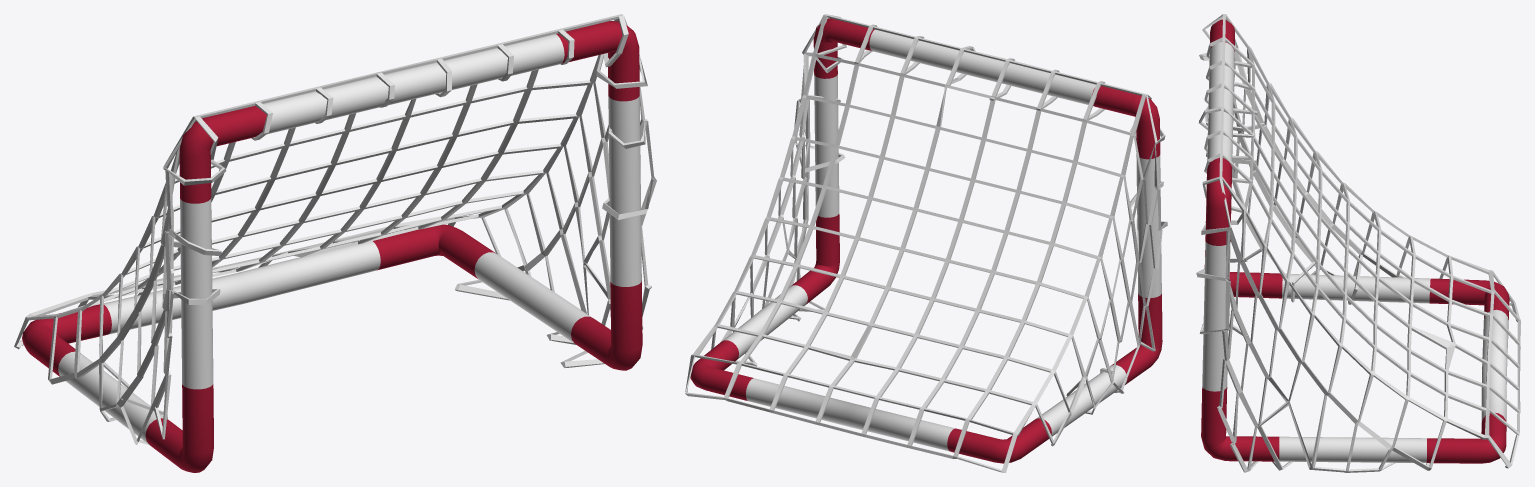
The model's file is goalgate.glb.
3 renders of one model, left to right at view 1: azimuth 30°, elevation 25°; view 2: azimuth 150°, elevation 25°; view 3: azimuth 270°, elevation 25°, orthographic. The views are drawn at different scales.
Parts seen in each view (by area): view 1: Tube, Net; view 2: Net, Tube; view 3: Net, Tube.
Boxes of the visible parts, x1,y1,x2,y2 form: Tube: [22, 21, 642, 472]; Net: [14, 14, 656, 444]; Net: [685, 14, 1167, 472]; Tube: [690, 18, 1162, 463]; Net: [1196, 14, 1520, 472]; Tube: [1201, 19, 1509, 463].
Size of the model in its own units: 14.67 by 10.62 by 10.74.
